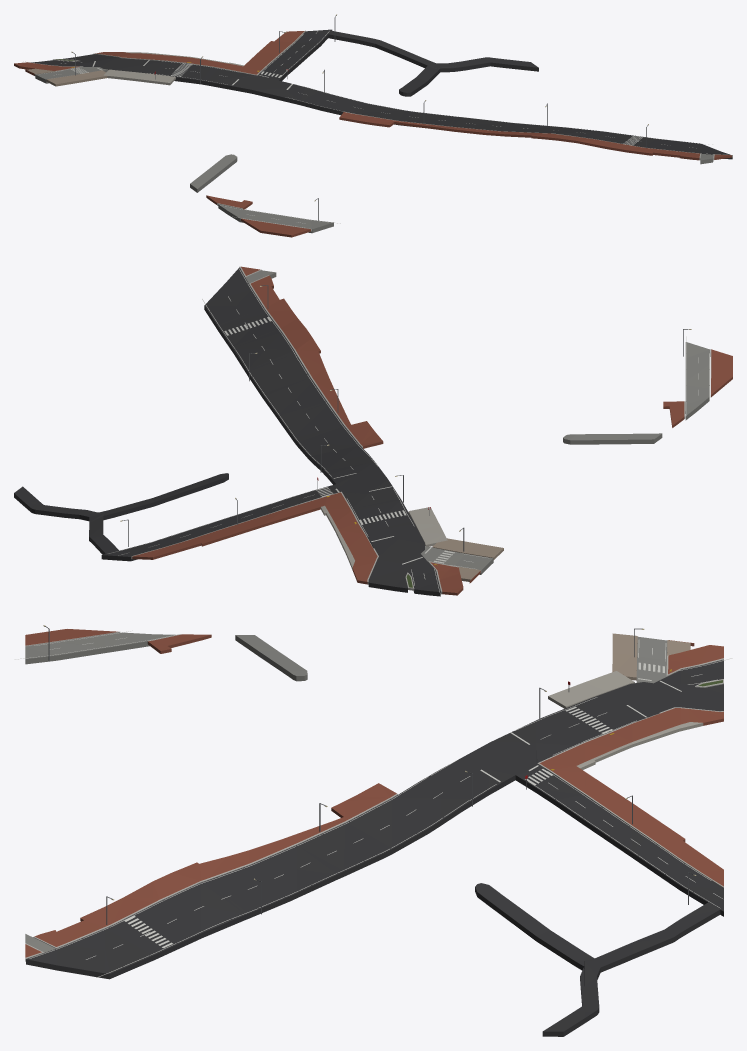
Rendered from 18-218884-118955.abb003c5.glb.
3 renders of one model, top to bottom at view 1: azimuth 30°, elevation 25°; view 2: azimuth 150°, elevation 25°; view 3: azimuth 270°, elevation 25°, orthographic. The views are drawn at different scales.
Bounding box in the file's own units: 150 × 33.22 × 150.
